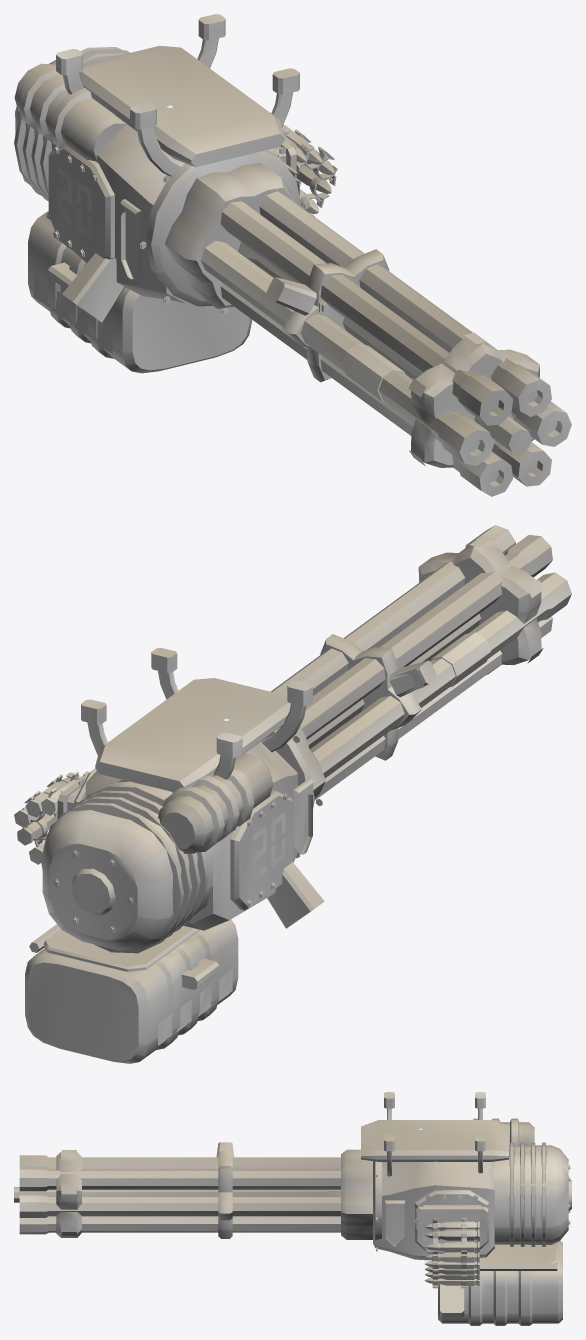
The model's file is minigun-l.glb.
The picture shows the model from 3 angles, top to bottom: view 1: azimuth 30°, elevation 25°; view 2: azimuth 150°, elevation 25°; view 3: azimuth 270°, elevation 25°; orthographic projection. The views are drawn at different scales.
Visible parts, largest first — view 1: Body, Spin; view 2: Body, Spin; view 3: Body, Spin.
Part boxes in pixels (<box>): Body: <box>14,14,337,373</box>; Spin: <box>165,162,571,496</box>; Body: <box>14,648,324,1063</box>; Spin: <box>271,525,571,799</box>; Body: <box>361,1092,571,1325</box>; Spin: <box>14,1142,372,1239</box>.
Bounding box in the file's own units: 0.5377 × 0.575 × 1.52.
